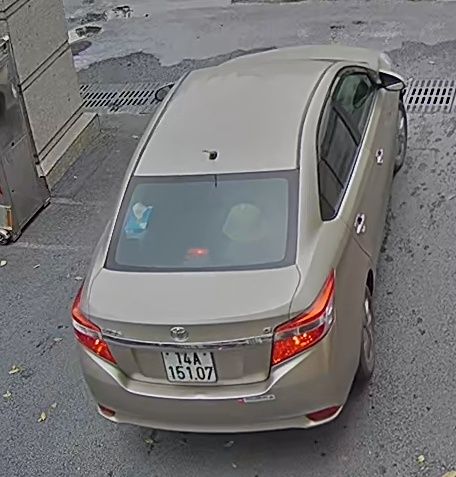vehicle plate: (156, 339, 217, 385)
